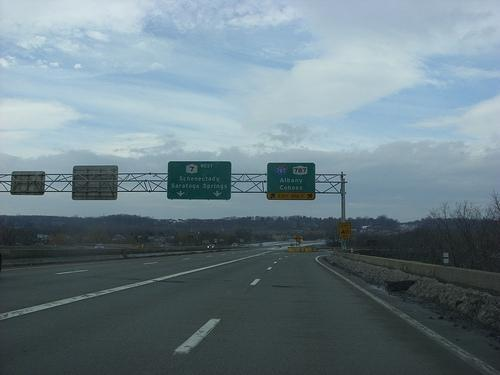car: (206, 244, 215, 248), (231, 243, 238, 247)
